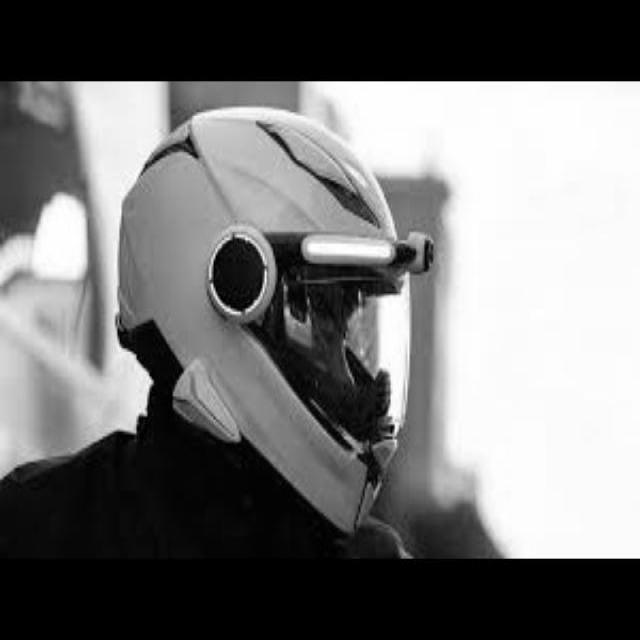5_casco: (106, 103, 434, 540)
